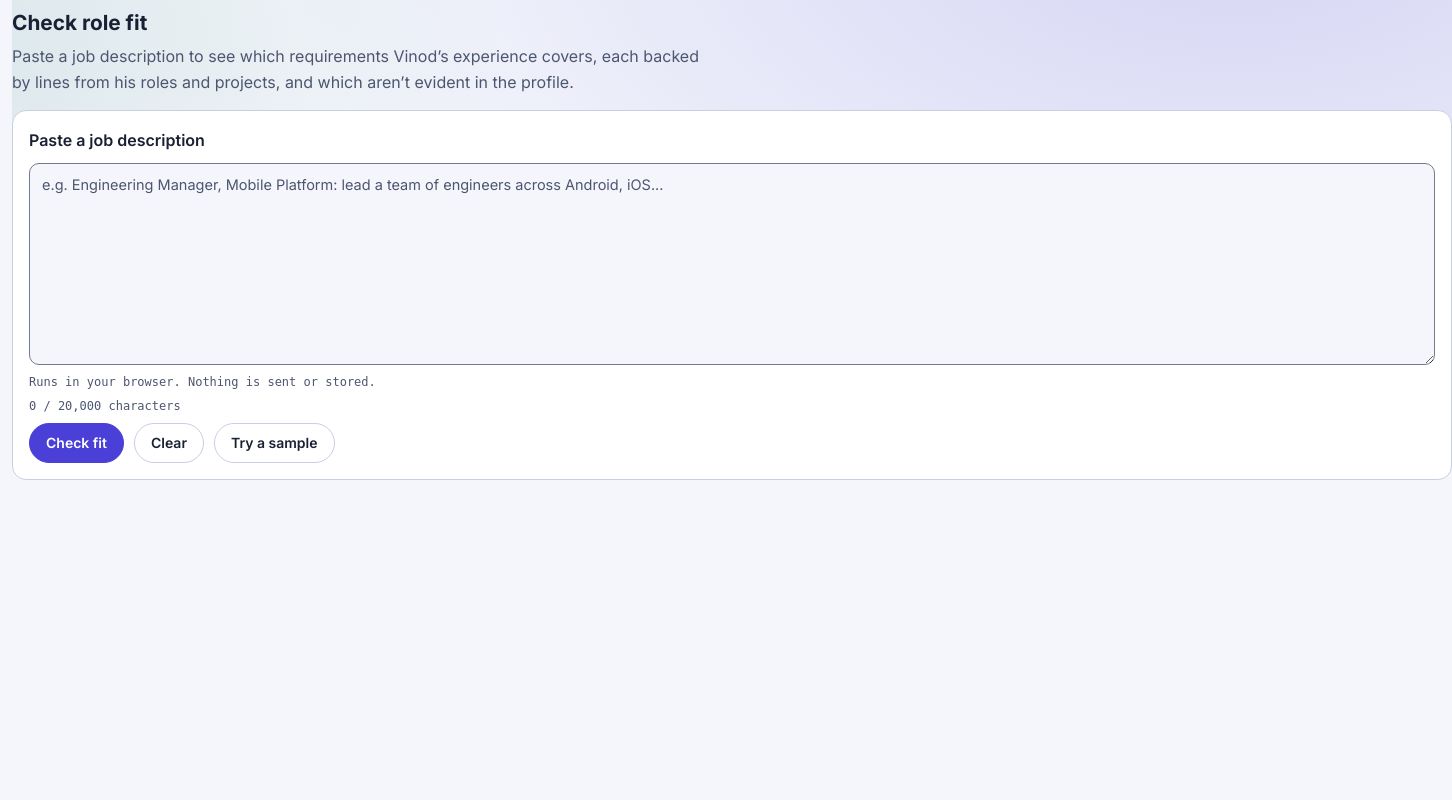
Test: RoleFit › "Try a sample" fills the box, shows matched evidence and announces the summary
The width and height of the screenshot is (1452, 800).
Click the button "Try a sample" at [274, 443], box [214,423,335,463]
(page scrolled)
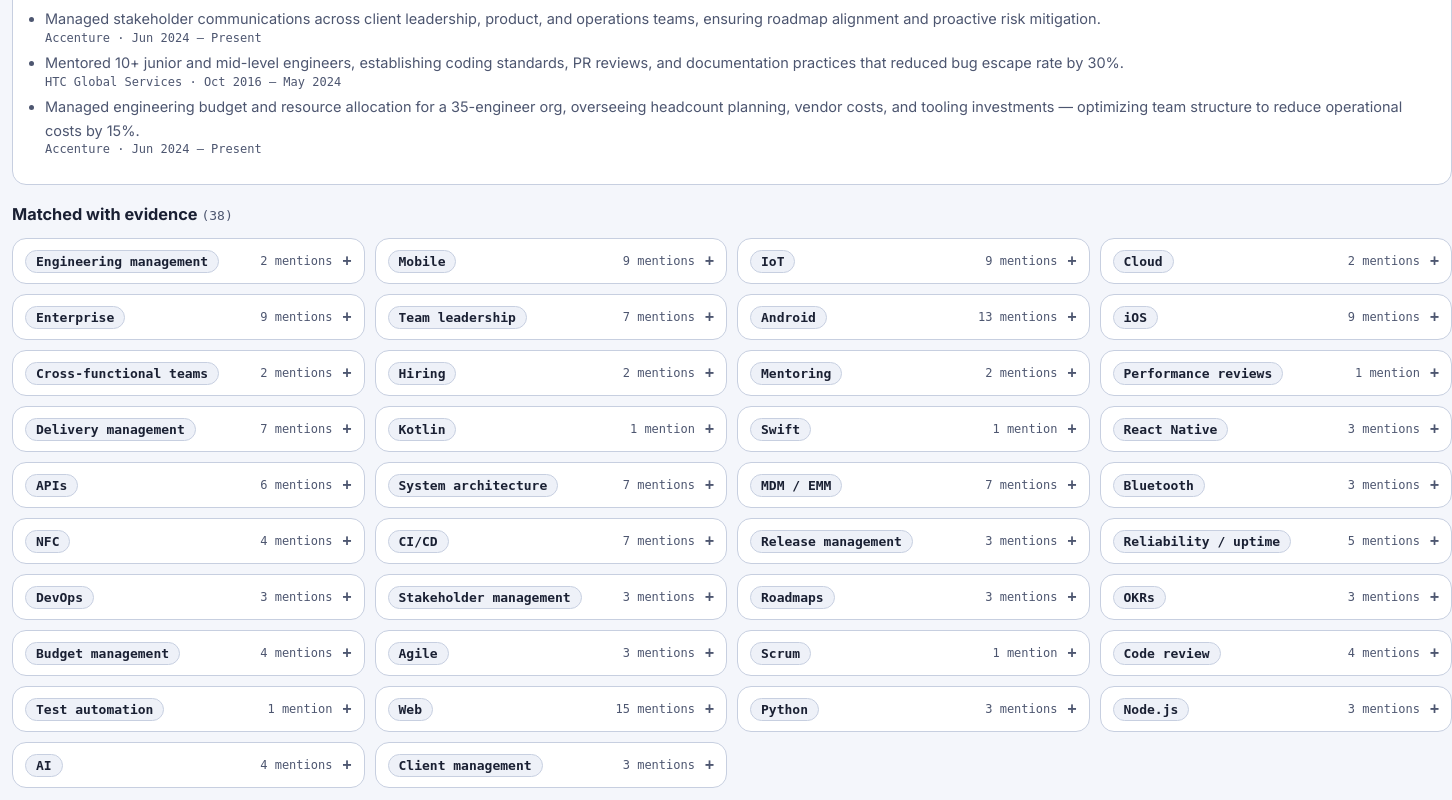
Now the heading "Matched with evidence (38)" is shown, box [12,204,233,224]
Now the text "Kotlin" is shown, box [388,418,456,441]
